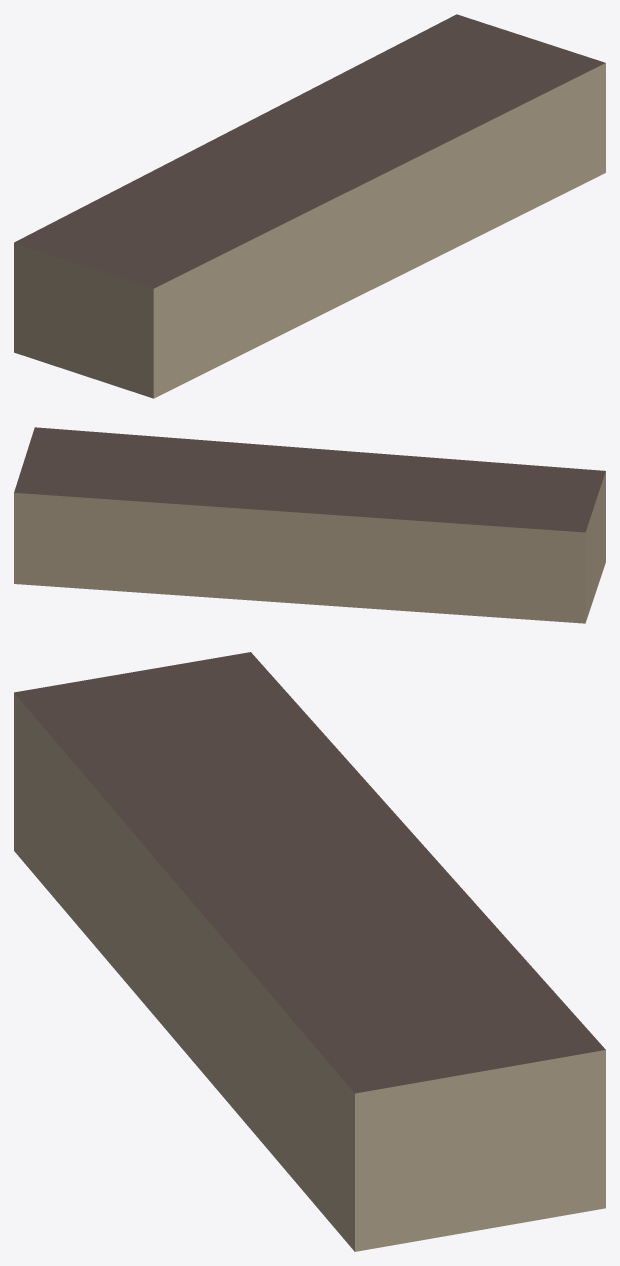
3 views of the same model, one above another, from view 1: azimuth 30°, elevation 25°; view 2: azimuth 150°, elevation 25°; view 3: azimuth 270°, elevation 25° (orthographic). The views are drawn at different scales.
Parts seen in each view (by area): view 1: HP-w1512911299; view 2: HP-w1512911299; view 3: HP-w1512911299.
Part boxes in pixels (x1,y1,x2,y2): HP-w1512911299: (14,14,605,398); HP-w1512911299: (14,427,605,623); HP-w1512911299: (14,652,605,1251).
Size of the model in its own units: 53.79 by 9 by 30.48.
